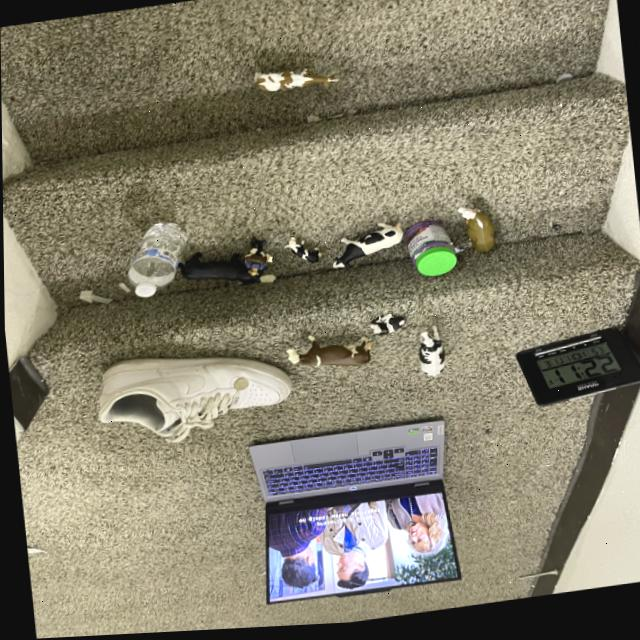cow: (322, 218, 405, 274), (285, 336, 370, 369), (455, 202, 501, 261), (177, 253, 253, 284), (254, 68, 338, 95), (414, 328, 446, 382), (366, 310, 407, 344), (282, 236, 322, 270), (241, 249, 274, 269)
person: (238, 262, 263, 282)
